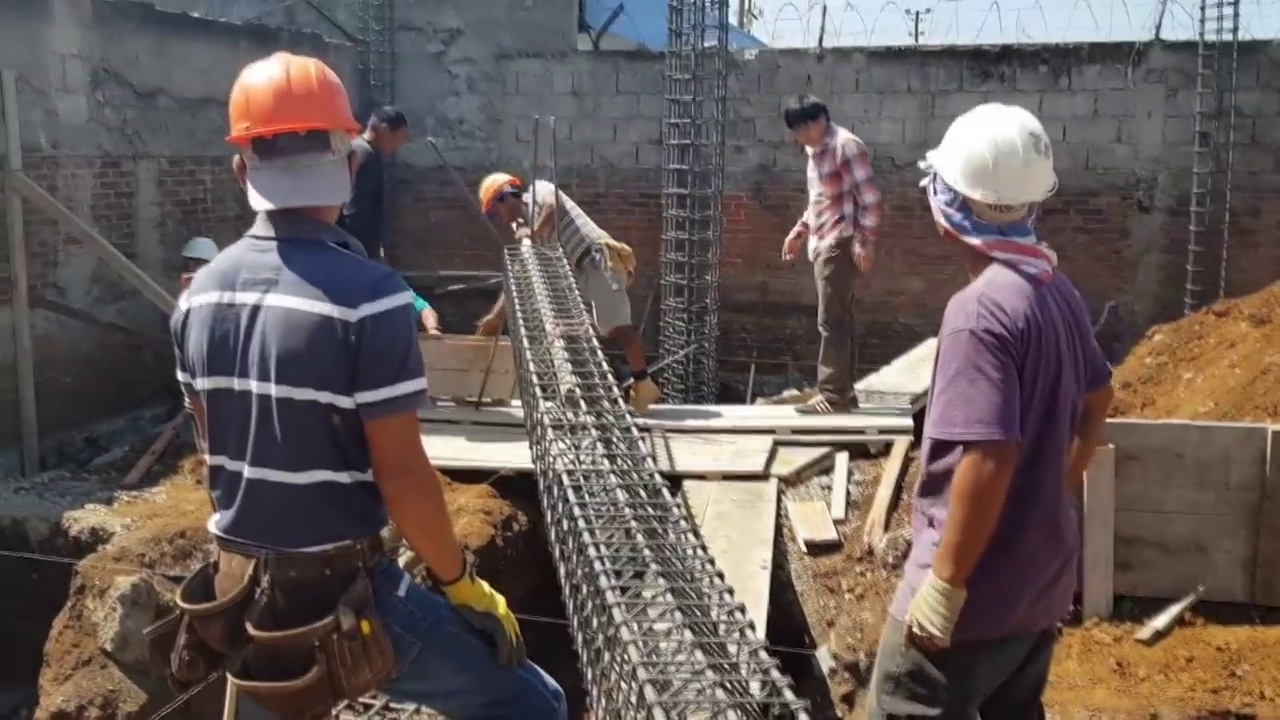helmet: (220, 52, 365, 153), (932, 98, 1057, 214), (480, 168, 521, 215), (183, 236, 220, 262)
helmet-off: (785, 92, 835, 147), (359, 100, 407, 152)
helmet-on: (916, 100, 1068, 290), (223, 51, 364, 239), (481, 168, 528, 227), (178, 236, 220, 284)
person: (158, 36, 547, 718), (874, 93, 1112, 720), (475, 164, 661, 410), (785, 90, 888, 417), (344, 98, 416, 245)
